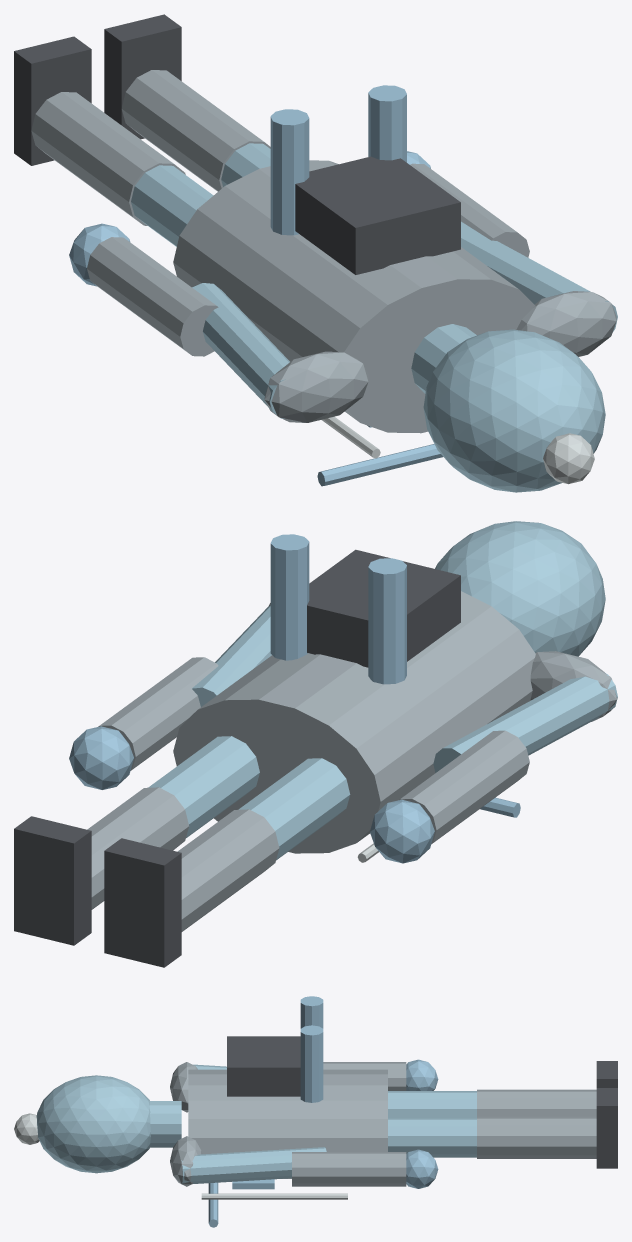
File: SWN-008_vesha_pryn.glb
The picture shows the model from 3 angles, top to bottom: view 1: azimuth 30°, elevation 25°; view 2: azimuth 150°, elevation 25°; view 3: azimuth 270°, elevation 25°; orthographic projection. The views are drawn at different scales.
Visible parts, largest first — view 1: body_spine, head, back_thruster_pack, greave_-1, greave_1, forearm_gauntlet_-1, boot_-1, shoulder_plate_-1, boot_1, upper_arm_-1, shoulder_plate_1, aether_thruster_-1 (+10 smaller); view 2: body_spine, head, back_thruster_pack, boot_-1, boot_1, greave_-1, forearm_gauntlet_-1, upper_arm_-1, thigh_-1, thigh_1, forearm_gauntlet_1, greave_1 (+6 smaller); view 3: body_spine, head, greave_1, back_thruster_pack, forearm_gauntlet_1, greave_-1, thigh_1, upper_arm_1, thigh_-1, aether_thruster_1, boot_1, neck (+11 smaller).
Part boxes in pixels (left/top/right/bottom): body_spine: left=173, top=160, right=535, bottom=433; head: left=423, top=329, right=605, bottom=492; back_thruster_pack: left=295, top=156, right=460, bottom=274; greave_-1: left=31, top=92, right=185, bottom=225; greave_1: left=121, top=70, right=270, bottom=191; forearm_gauntlet_-1: left=87, top=237, right=218, bottom=356; boot_-1: left=14, top=36, right=91, bottom=165; shoulder_plate_-1: left=264, top=351, right=368, bottom=422; boot_1: left=104, top=14, right=181, bottom=139; upper_arm_-1: left=192, top=283, right=289, bottom=418; shoulder_plate_1: left=516, top=291, right=616, bottom=356; aether_thruster_-1: left=270, top=109, right=309, bottom=235; body_spine: left=173, top=591, right=535, bottom=853; head: left=435, top=521, right=605, bottom=656; back_thruster_pack: left=307, top=549, right=460, bottom=667; boot_-1: left=104, top=838, right=181, bottom=967; boot_1: left=14, top=816, right=91, bottom=945; greave_-1: left=177, top=809, right=279, bottom=931; forearm_gauntlet_-1: left=399, top=730, right=529, bottom=843; upper_arm_-1: left=433, top=673, right=617, bottom=772; thigh_-1: left=239, top=758, right=350, bottom=860; thigh_1: left=148, top=736, right=259, bottom=837; forearm_gauntlet_1: left=98, top=657, right=218, bottom=770; greave_1: left=87, top=787, right=188, bottom=909; body_spine: left=188, top=1069, right=387, bottom=1178; head: left=36, top=1075, right=150, bottom=1173; greave_1: left=477, top=1116, right=596, bottom=1158; back_thruster_pack: left=227, top=1036, right=300, bottom=1096; forearm_gauntlet_1: left=292, top=1152, right=406, bottom=1186; greave_-1: left=477, top=1089, right=596, bottom=1116; thigh_1: left=388, top=1118, right=476, bottom=1157; upper_arm_1: left=181, top=1147, right=326, bottom=1183; thigh_-1: left=388, top=1091, right=476, bottom=1117; aether_thruster_1: left=300, top=1025, right=323, bottom=1102; boot_1: left=596, top=1088, right=617, bottom=1168; neck: left=149, top=1101, right=181, bottom=1147.
Size of the model in its own units: 0.95 by 0.758 by 2.27.
